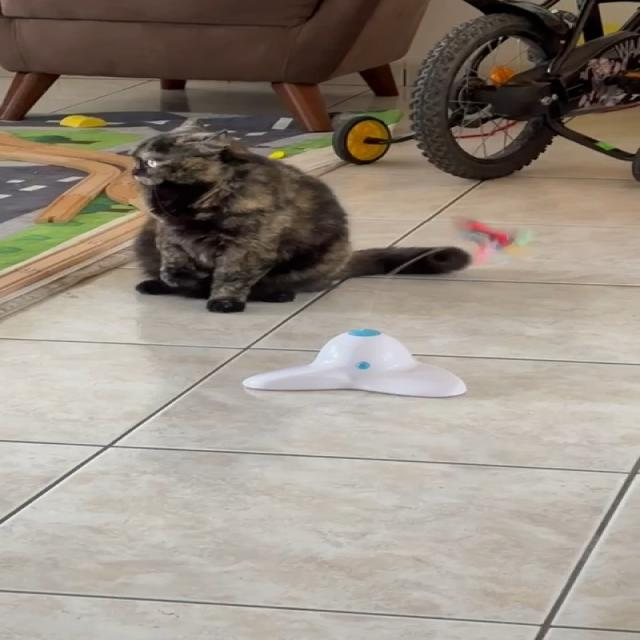authorized: (127, 116, 472, 313)
